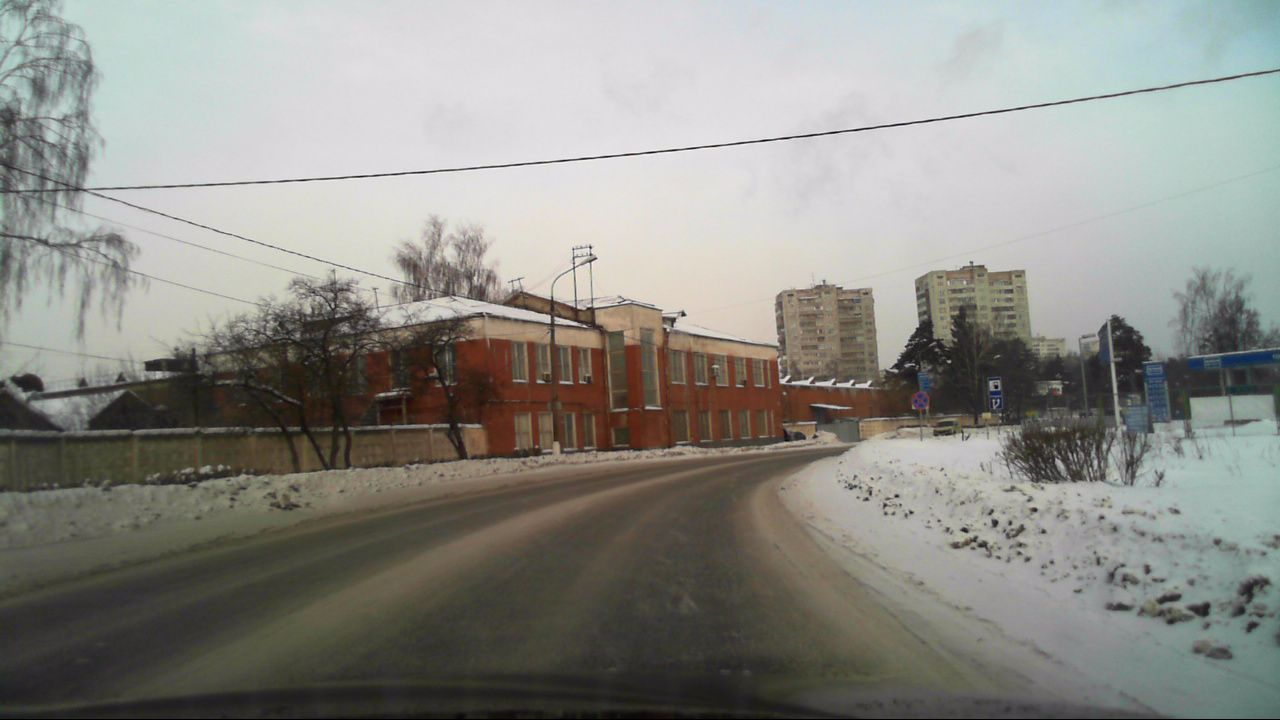No Parking: (911, 390, 929, 410)
